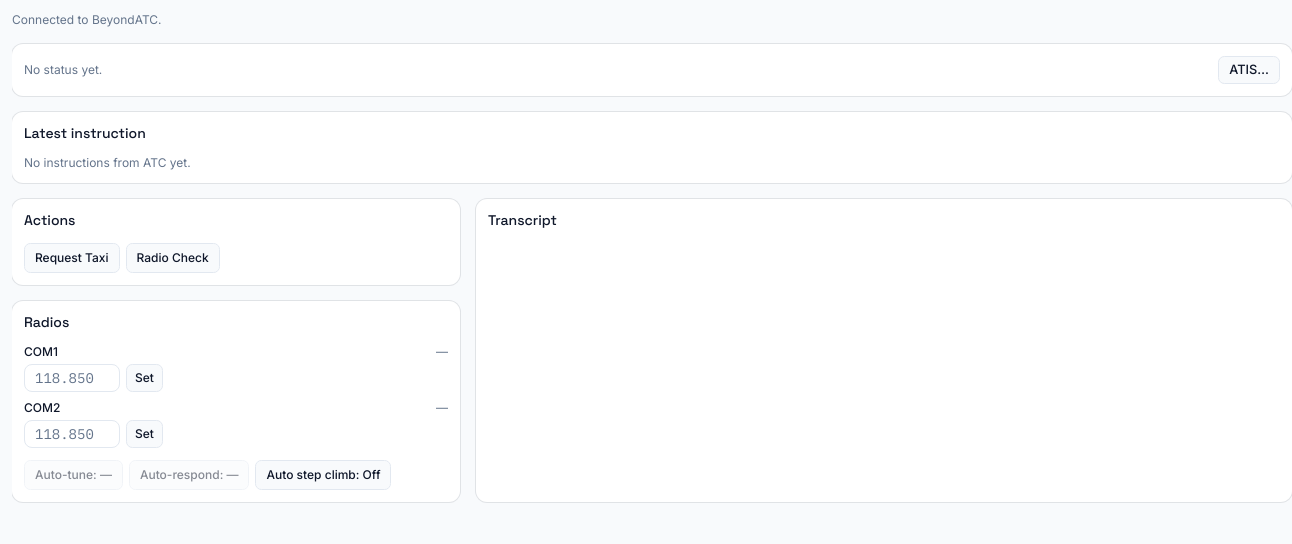
Test: BeyondAtcPanel › feedback after pressing an action (Callum, 2026-10-02: a press queued behind traffic looked like it did nothing) › marks the pressed button busy straight away and says it is queued while traffic talks
The width and height of the screenshot is (1292, 544).
Click the button "Request Taxi" at x=72, y=258, box [24,242,120,272]
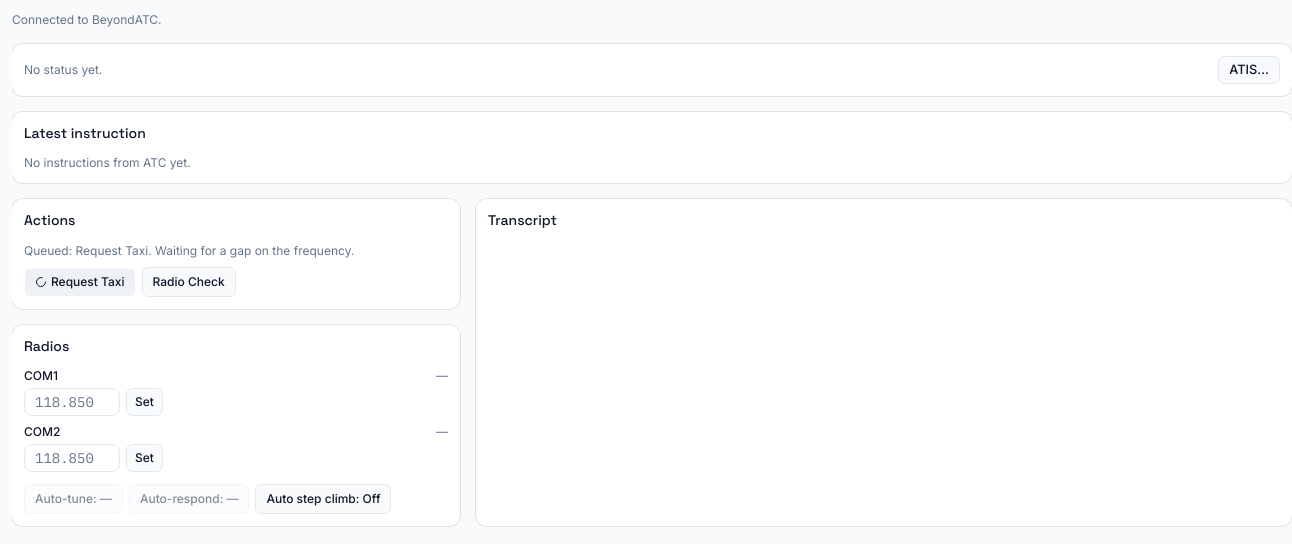
Now the message reads "Queued: Request Taxi. Waiting for a gap on the frequency.", box [24,242,354,258]
Now the message shows "Queued: Request Taxi.", box [24,242,354,258]
